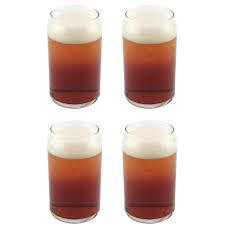beer: (47, 5, 178, 223)
